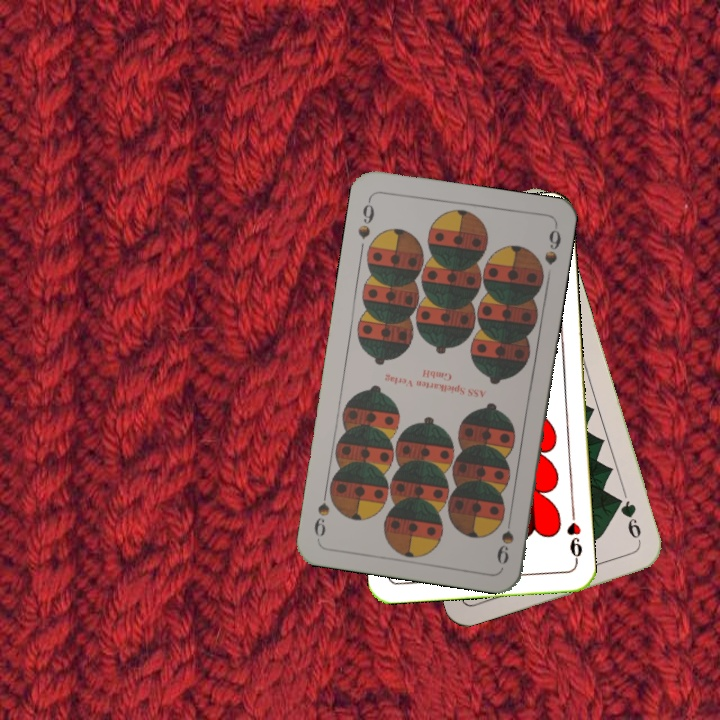G9: (613, 493, 644, 546)
H9: (563, 507, 585, 566)
S9: (493, 508, 516, 566), (354, 194, 377, 242)
